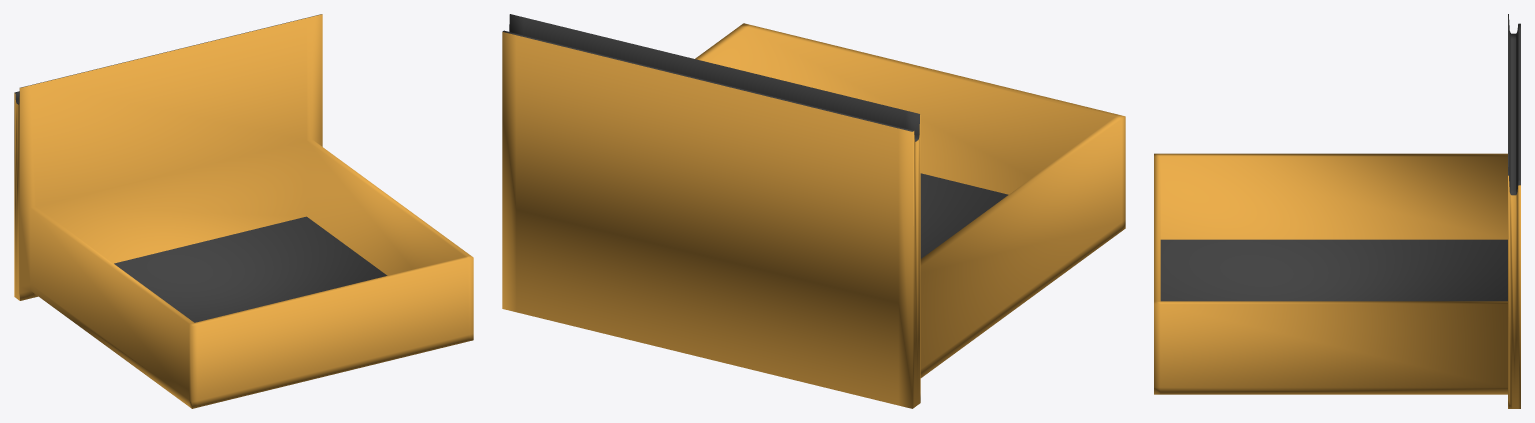
Rendered from SchrankBreitSchublade2.fbx.
The picture shows the model from 3 angles, left to right: view 1: azimuth 30°, elevation 25°; view 2: azimuth 150°, elevation 25°; view 3: azimuth 270°, elevation 25°; orthographic projection. The views are drawn at different scales.
Visible parts, largest first — view 1: Stauraum2Schublade2; view 2: Stauraum2Schublade2; view 3: Stauraum2Schublade2.
Boxes of the visible parts, x1=… form: Stauraum2Schublade2: x1=14, y1=14, x2=473, y2=408; Stauraum2Schublade2: x1=502, y1=14, x2=1125, y2=408; Stauraum2Schublade2: x1=1154, y1=14, x2=1520, y2=408.
Bounding box in the file's own units: 59.42 × 40 × 57.01.
